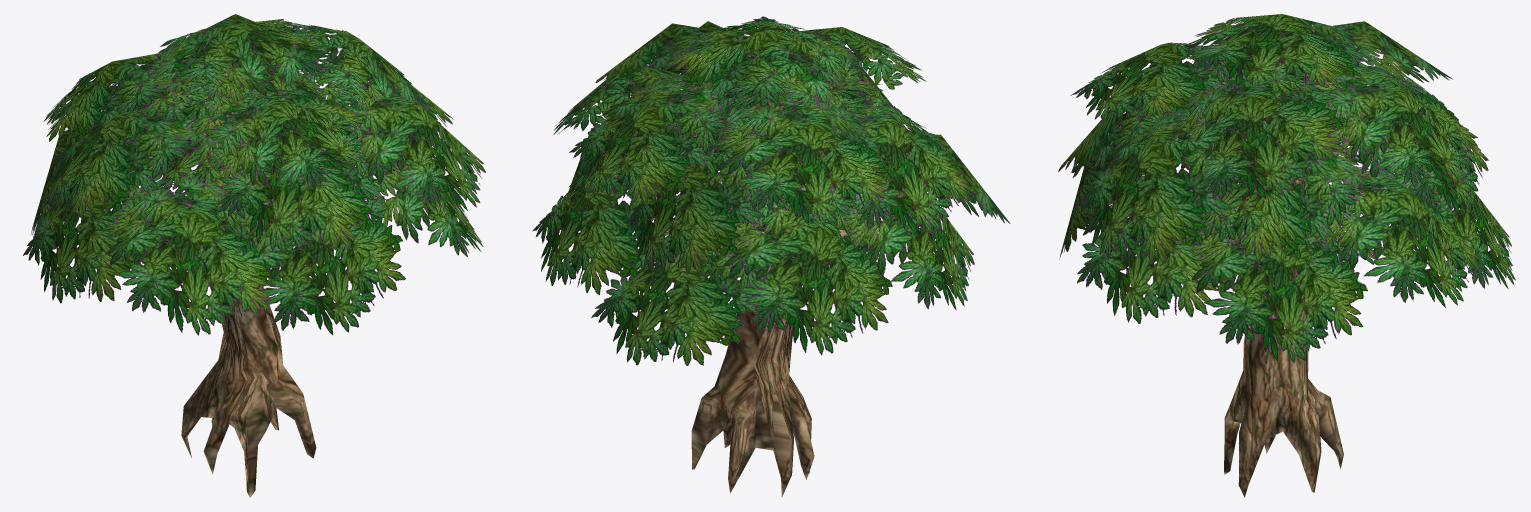
Rendered from n_tree02.glb.
3 views of the same model, side by side, from view 1: azimuth 30°, elevation 25°; view 2: azimuth 150°, elevation 25°; view 3: azimuth 270°, elevation 25° (orthographic). The views are drawn at different scales.
Parts seen in each view (by area): view 1: n_tree02; view 2: n_tree02; view 3: n_tree02.
Part boxes in pixels (box(x1,y1,x2,y2)): n_tree02: box(23, 14, 485, 497); n_tree02: box(532, 16, 1010, 496); n_tree02: box(1058, 14, 1515, 497).
Size of the model in its own units: 3.48 by 3.71 by 3.37.
2 materials, 2 textured.
